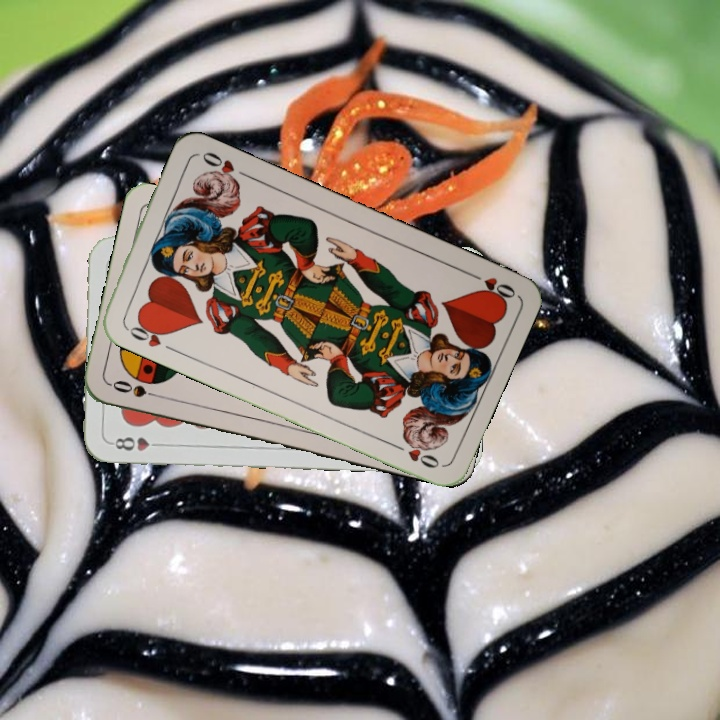H8: (107, 433, 166, 454)
HO: (120, 316, 176, 354), (462, 267, 518, 305)
SO: (107, 376, 165, 402)
